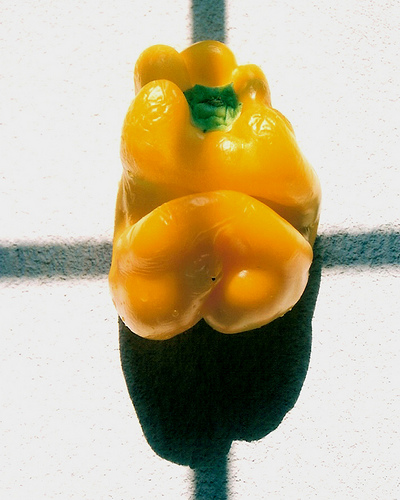capsicum: (105, 35, 325, 345)
